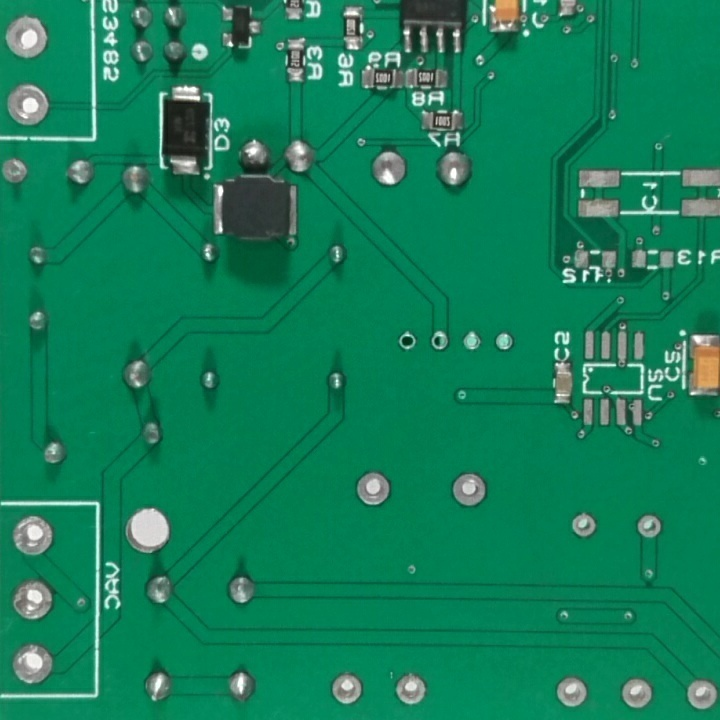F: (2, 79, 55, 131), (3, 9, 54, 63), (11, 639, 58, 691), (10, 578, 59, 623), (10, 512, 54, 561), (347, 466, 395, 510), (447, 468, 490, 512), (550, 672, 590, 712), (327, 669, 366, 708), (393, 668, 430, 709), (619, 675, 658, 713), (684, 676, 720, 715), (563, 509, 602, 544), (634, 511, 667, 545), (1, 157, 30, 188), (491, 329, 520, 355), (396, 329, 419, 356), (459, 330, 483, 355), (428, 329, 452, 353)
